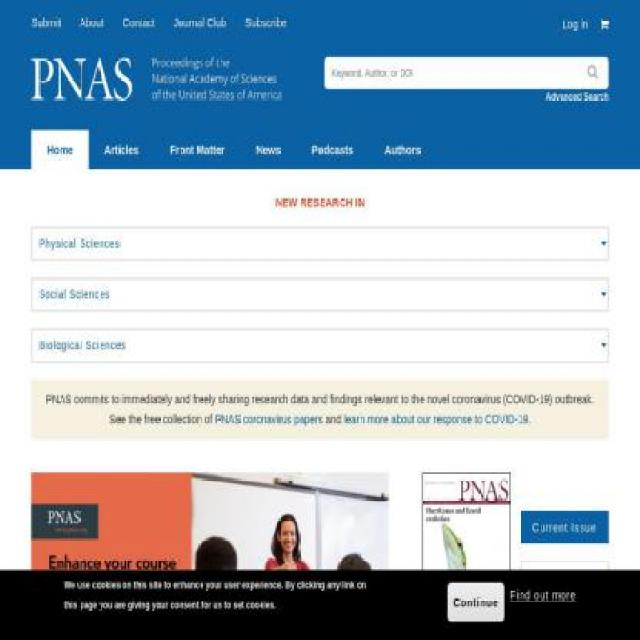button: (31, 227, 609, 261), (31, 278, 609, 312), (31, 328, 609, 362), (153, 130, 241, 168), (520, 560, 609, 595), (520, 510, 609, 544), (296, 130, 370, 168), (369, 130, 436, 168), (89, 130, 154, 168), (446, 582, 505, 622), (31, 130, 89, 168), (240, 130, 297, 168), (510, 578, 576, 610), (164, 8, 236, 35), (235, 8, 296, 35), (112, 8, 165, 35), (21, 8, 70, 35), (69, 8, 114, 35), (0, 632, 23, 639)
field: (325, 57, 609, 89)
